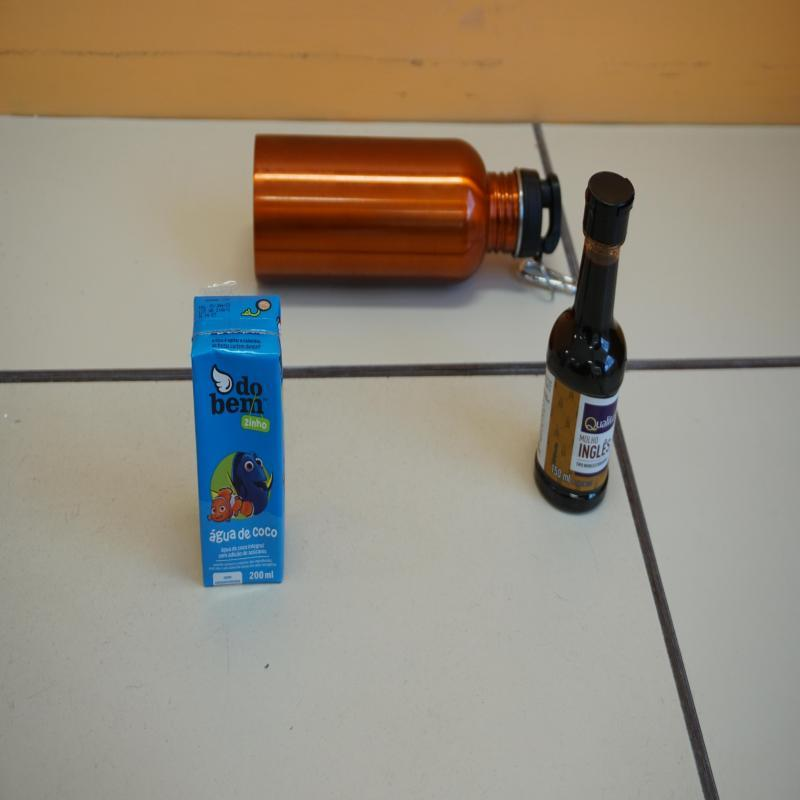CoconutWater: (190, 293, 287, 591)
EnglishSauce: (534, 172, 635, 518)
